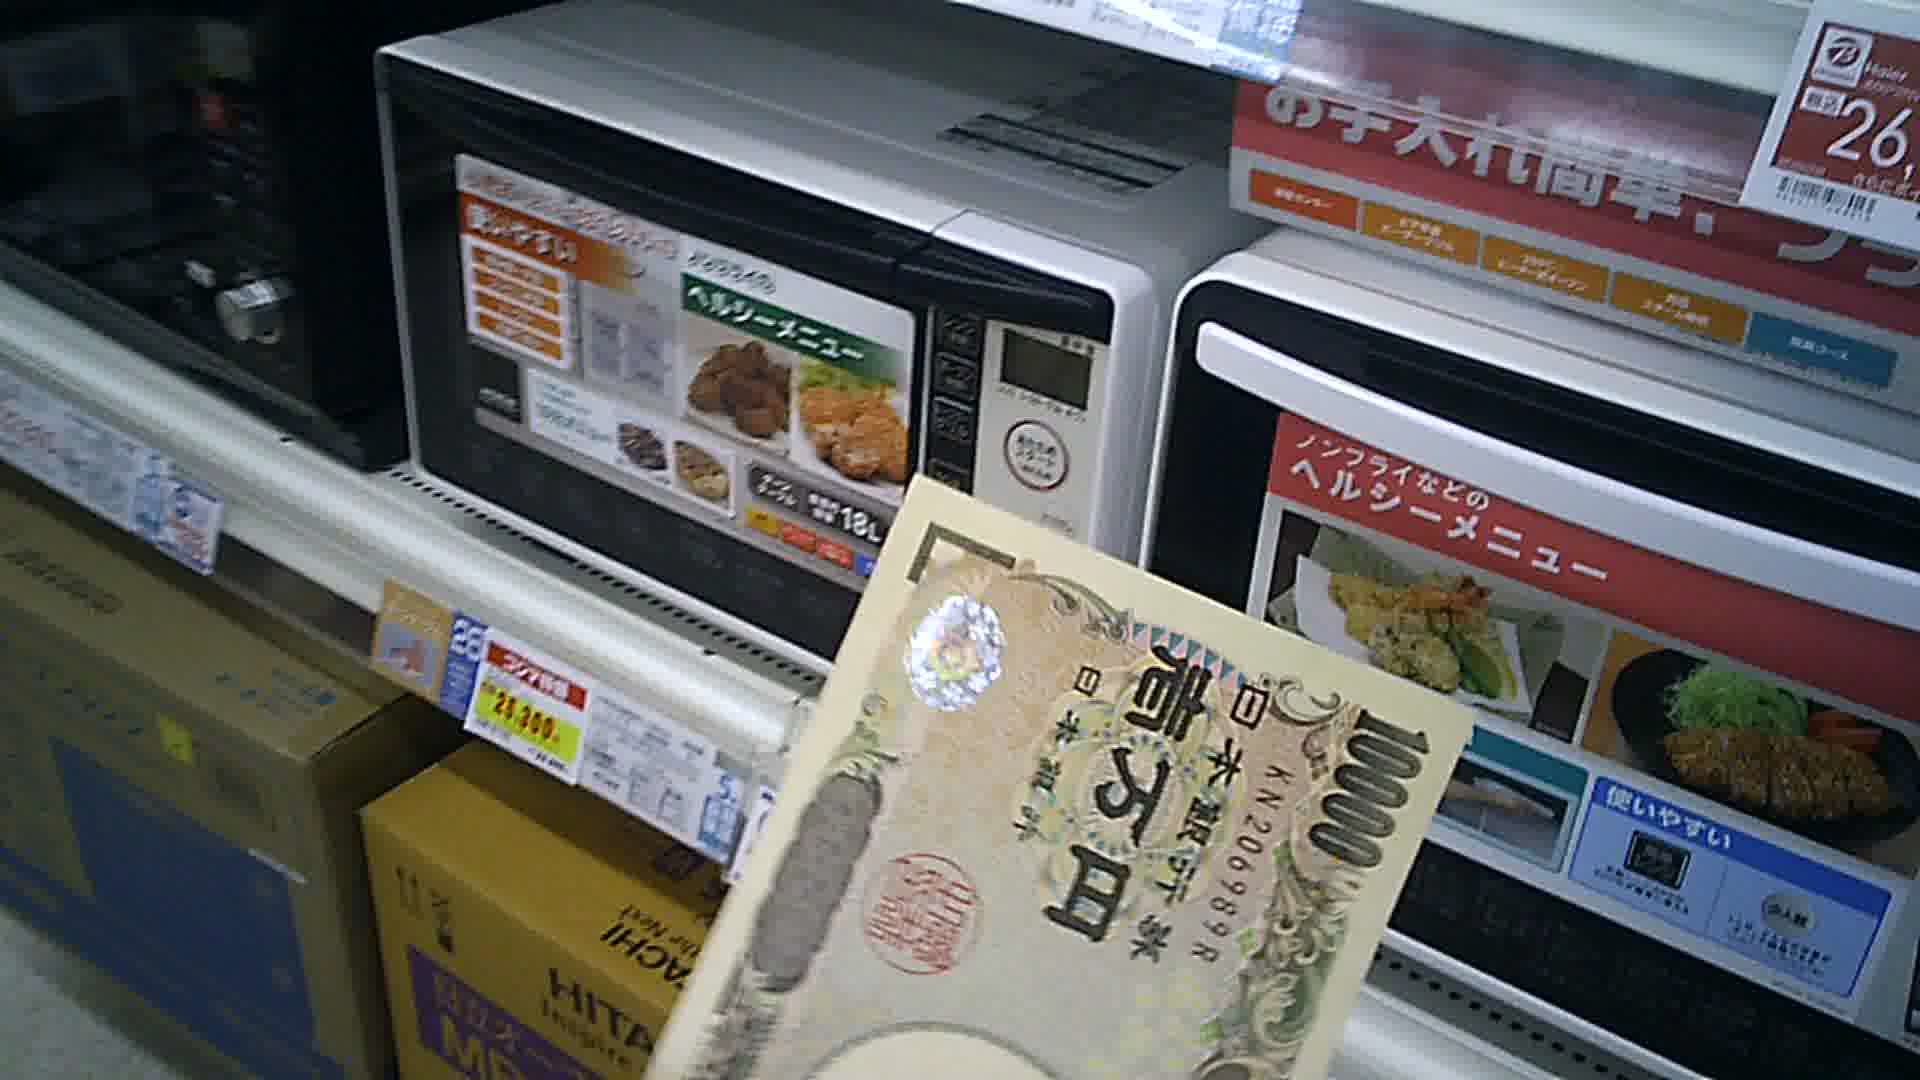10,000 Yen: (640, 477, 1548, 1079)
